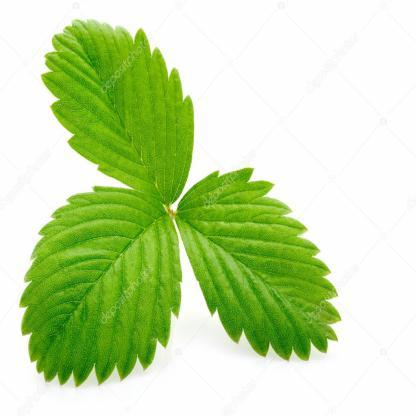Strawberry leaf: (35, 1, 198, 211), (178, 160, 344, 362), (16, 184, 174, 390)
